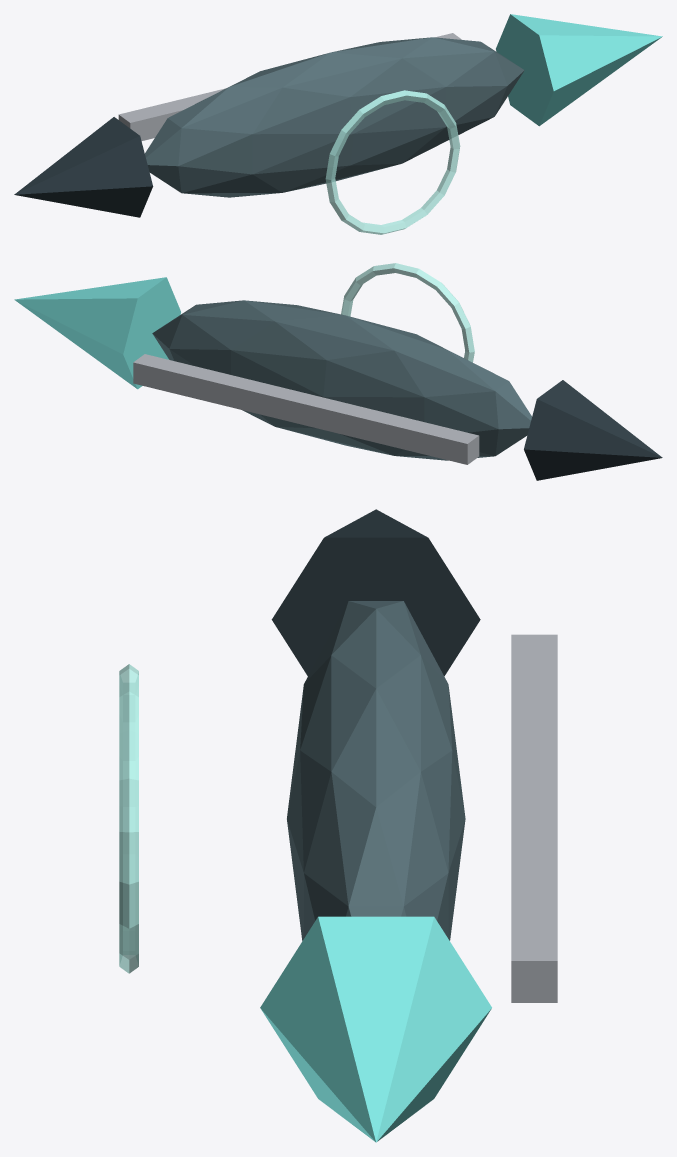
File: 05_skyship_hull.glb
The picture shows the model from 3 angles, top to bottom: view 1: azimuth 30°, elevation 25°; view 2: azimuth 150°, elevation 25°; view 3: azimuth 270°, elevation 25°; orthographic projection. The views are drawn at different scales.
Parts seen in each view (by area): view 1: hull_low_poly, bow_upgrade, stern_fin, size_class_ring, keel_plate; view 2: hull_low_poly, keel_plate, bow_upgrade, stern_fin, size_class_ring; view 3: hull_low_poly, bow_upgrade, keel_plate, stern_fin, size_class_ring.
Boxes of the visible parts, <box> form: hull_low_poly: <box>145,37,524,197</box>; bow_upgrade: <box>496,14,662,126</box>; stern_fin: <box>14,117,153,217</box>; size_class_ring: <box>325,90,460,234</box>; keel_plate: <box>118,33,461,140</box>; hull_low_poly: <box>152,300,531,460</box>; keel_plate: <box>133,354,479,464</box>; bow_upgrade: <box>14,277,180,389</box>; stern_fin: <box>524,380,662,480</box>; size_class_ring: <box>341,263,474,362</box>; hull_low_poly: <box>287,601,465,940</box>; bow_upgrade: <box>260,916,491,1142</box>; keel_plate: <box>511,634,557,1002</box>; stern_fin: <box>271,509,480,675</box>; size_class_ring: <box>119,664,138,973</box>.
Size of the model in its own units: 2.84 by 0.5806 by 0.8308.
